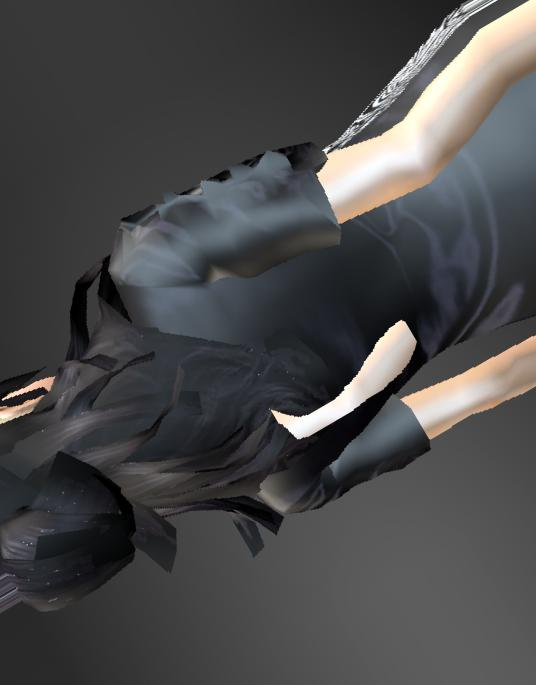clip: (361, 315, 416, 373)
